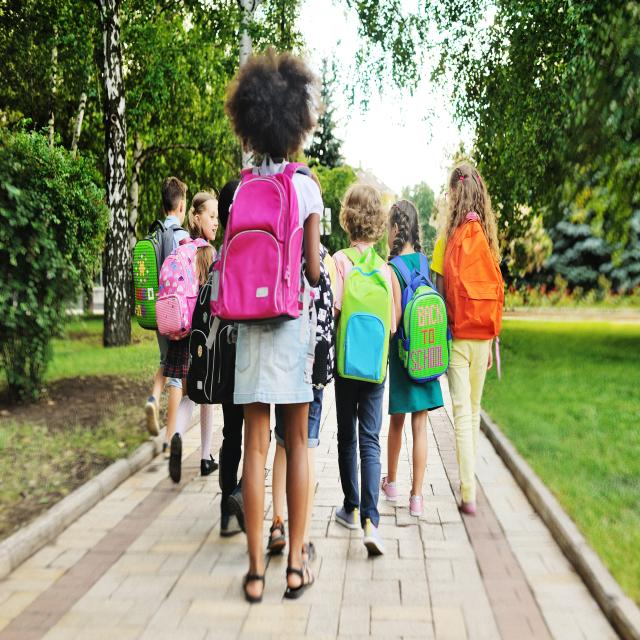child: (224, 55, 324, 603), (433, 164, 508, 512), (332, 181, 396, 556), (382, 197, 446, 516), (160, 186, 218, 484), (136, 169, 187, 463)
